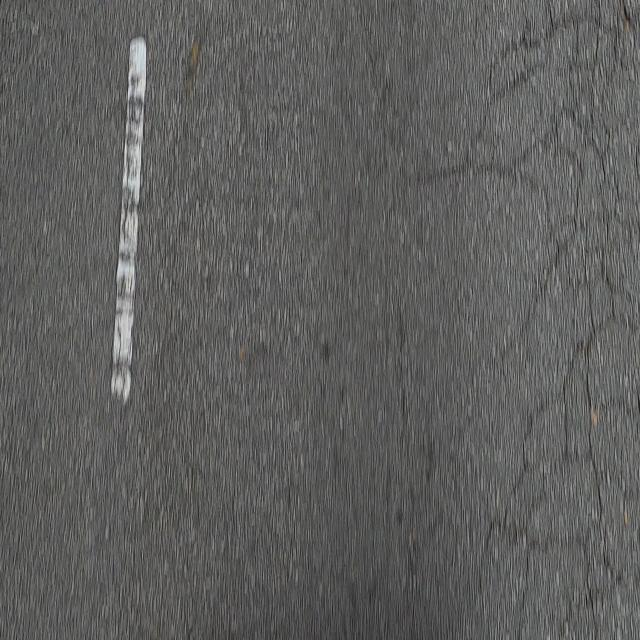Retak-Buaya: (402, 0, 640, 640)
